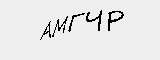А: (37, 16, 51, 44)
Г: (65, 10, 85, 35)
М: (50, 14, 67, 38)
Р: (106, 7, 126, 32)
Ч: (84, 6, 103, 34)
